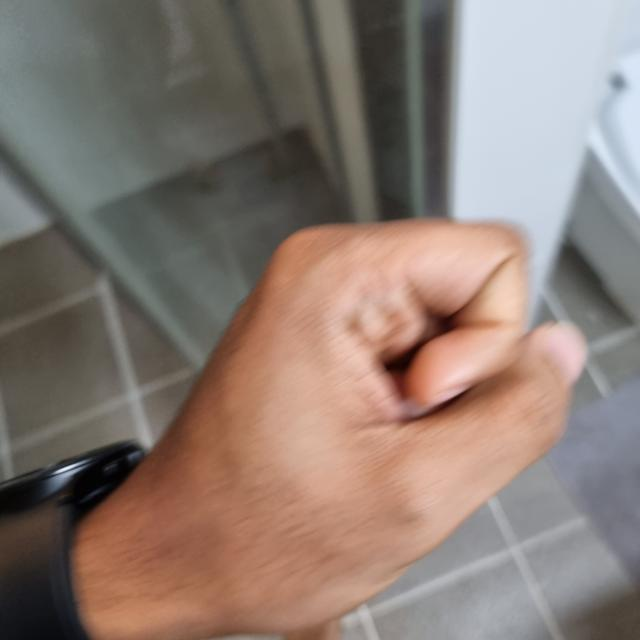Rock: (130, 219, 582, 632)
